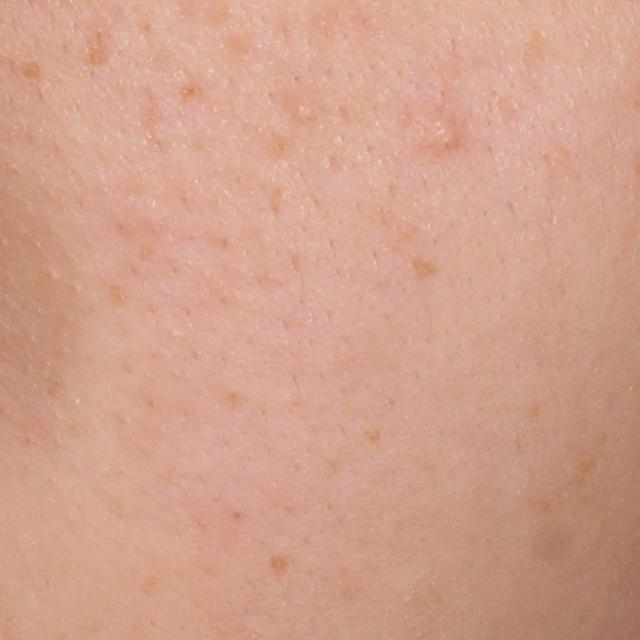comedo: (427, 117, 460, 150)
melasma: (407, 257, 445, 282), (266, 553, 294, 579)
